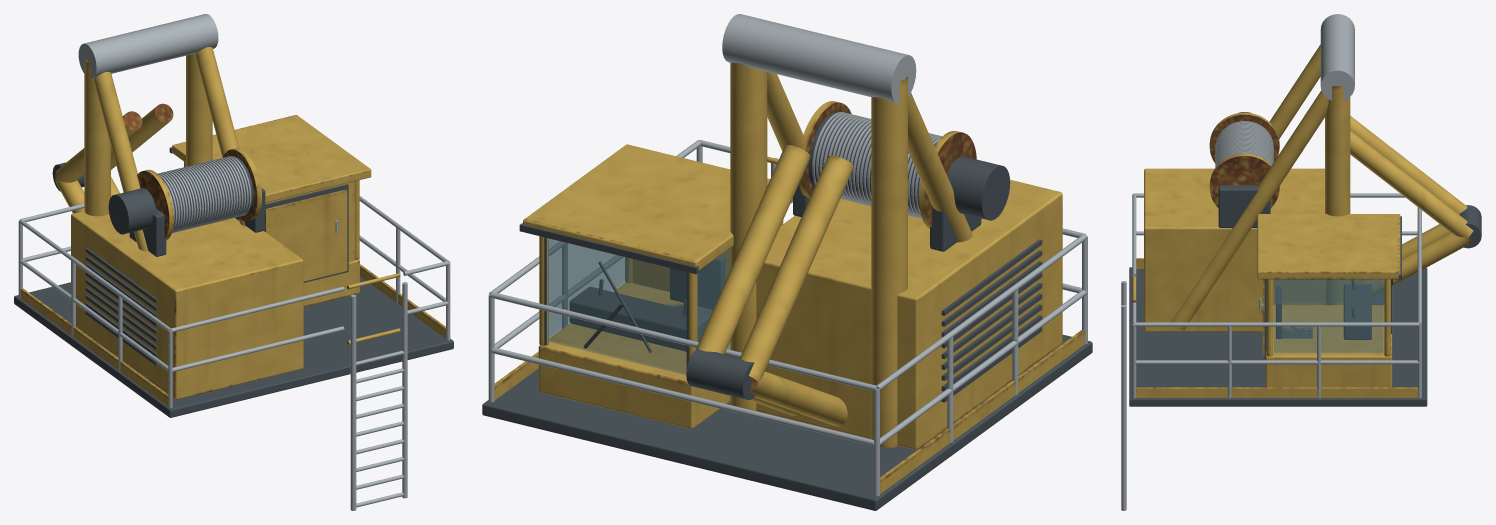
File: crane_cabin.glb
3 views of the same model, side by side, from view 1: azimuth 30°, elevation 25°; view 2: azimuth 150°, elevation 25°; view 3: azimuth 270°, elevation 25° (orthographic). The views are drawn at different scales.
Parts seen in each view (by area): view 1: crane_cabin; view 2: crane_cabin; view 3: crane_cabin.
Boxes of the visible parts, x1,y1,x2,y2 form: crane_cabin: (14,14,453,510); crane_cabin: (482,14,1092,510); crane_cabin: (1121,14,1481,510).
Bounding box in the file's own units: 4.2 × 5.93 × 4.84.
Materials: 4 (1 with a texture image).
